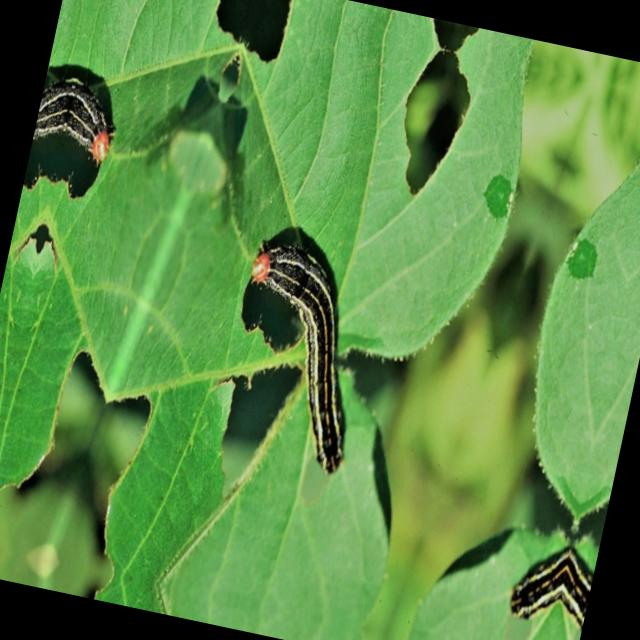Armyworm: (192, 194, 408, 533), (14, 38, 150, 246)
Armyworm_damage: (188, 341, 308, 527), (376, 51, 487, 243), (188, 1, 304, 86)
